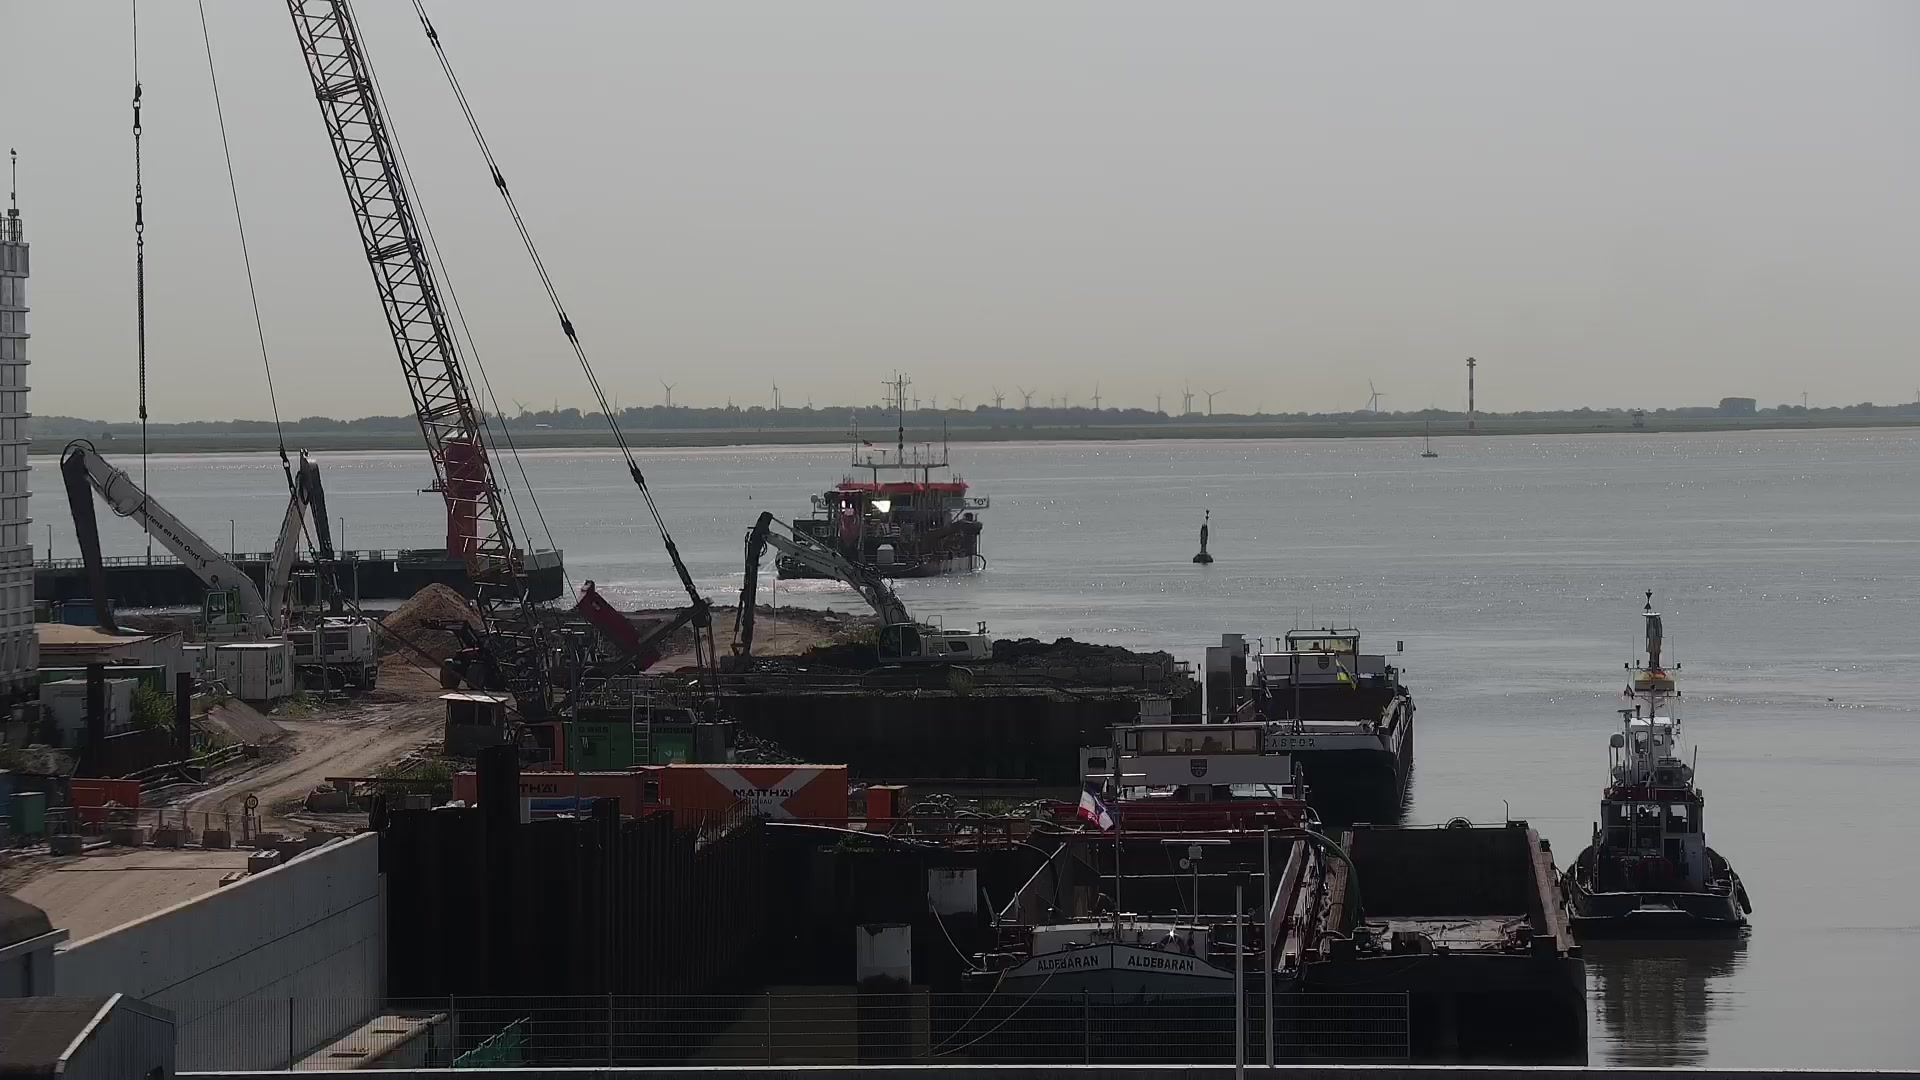sea: (963, 724, 1335, 1065), (1555, 633, 1754, 945), (775, 368, 996, 578), (1212, 601, 1416, 818)
